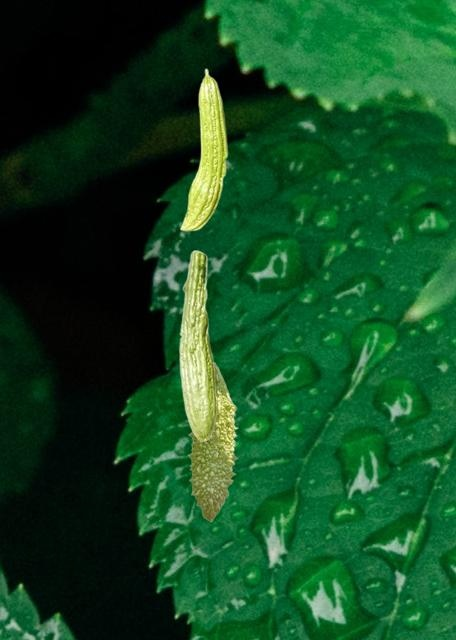ampalaya: (187, 361, 239, 522), (178, 68, 228, 232), (177, 248, 218, 442)
